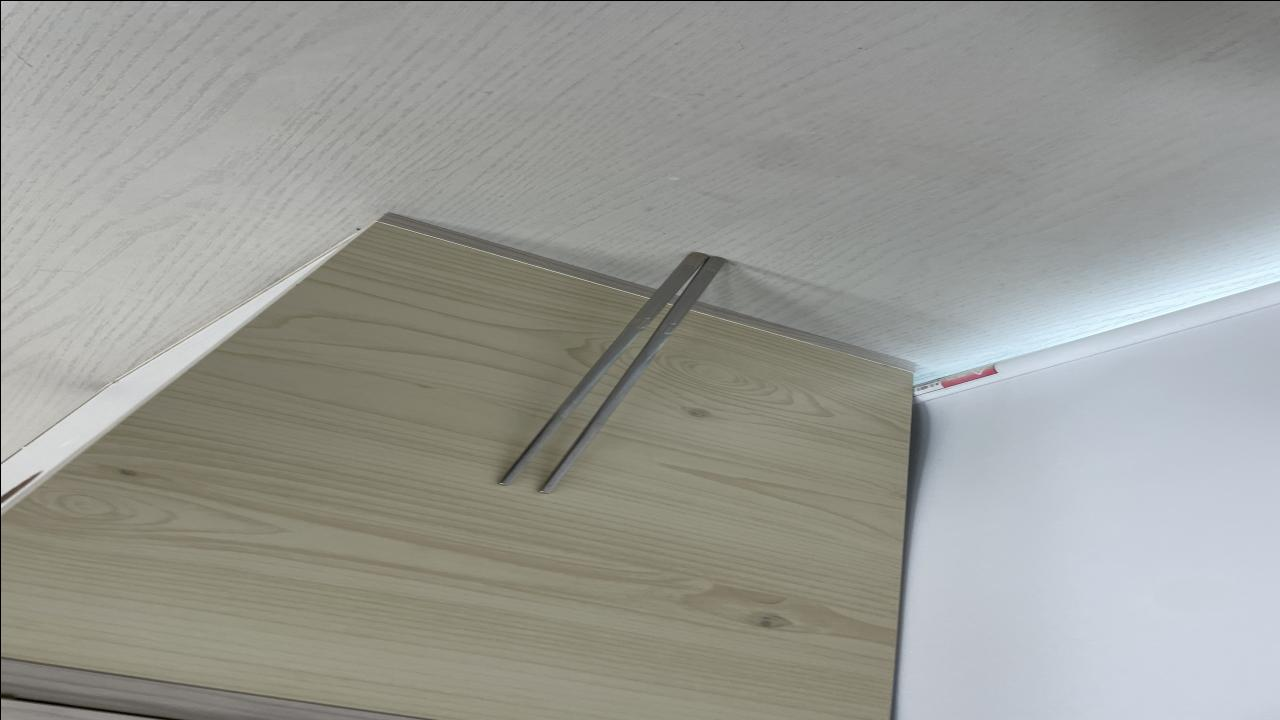chopstick: (484, 249, 728, 492)
